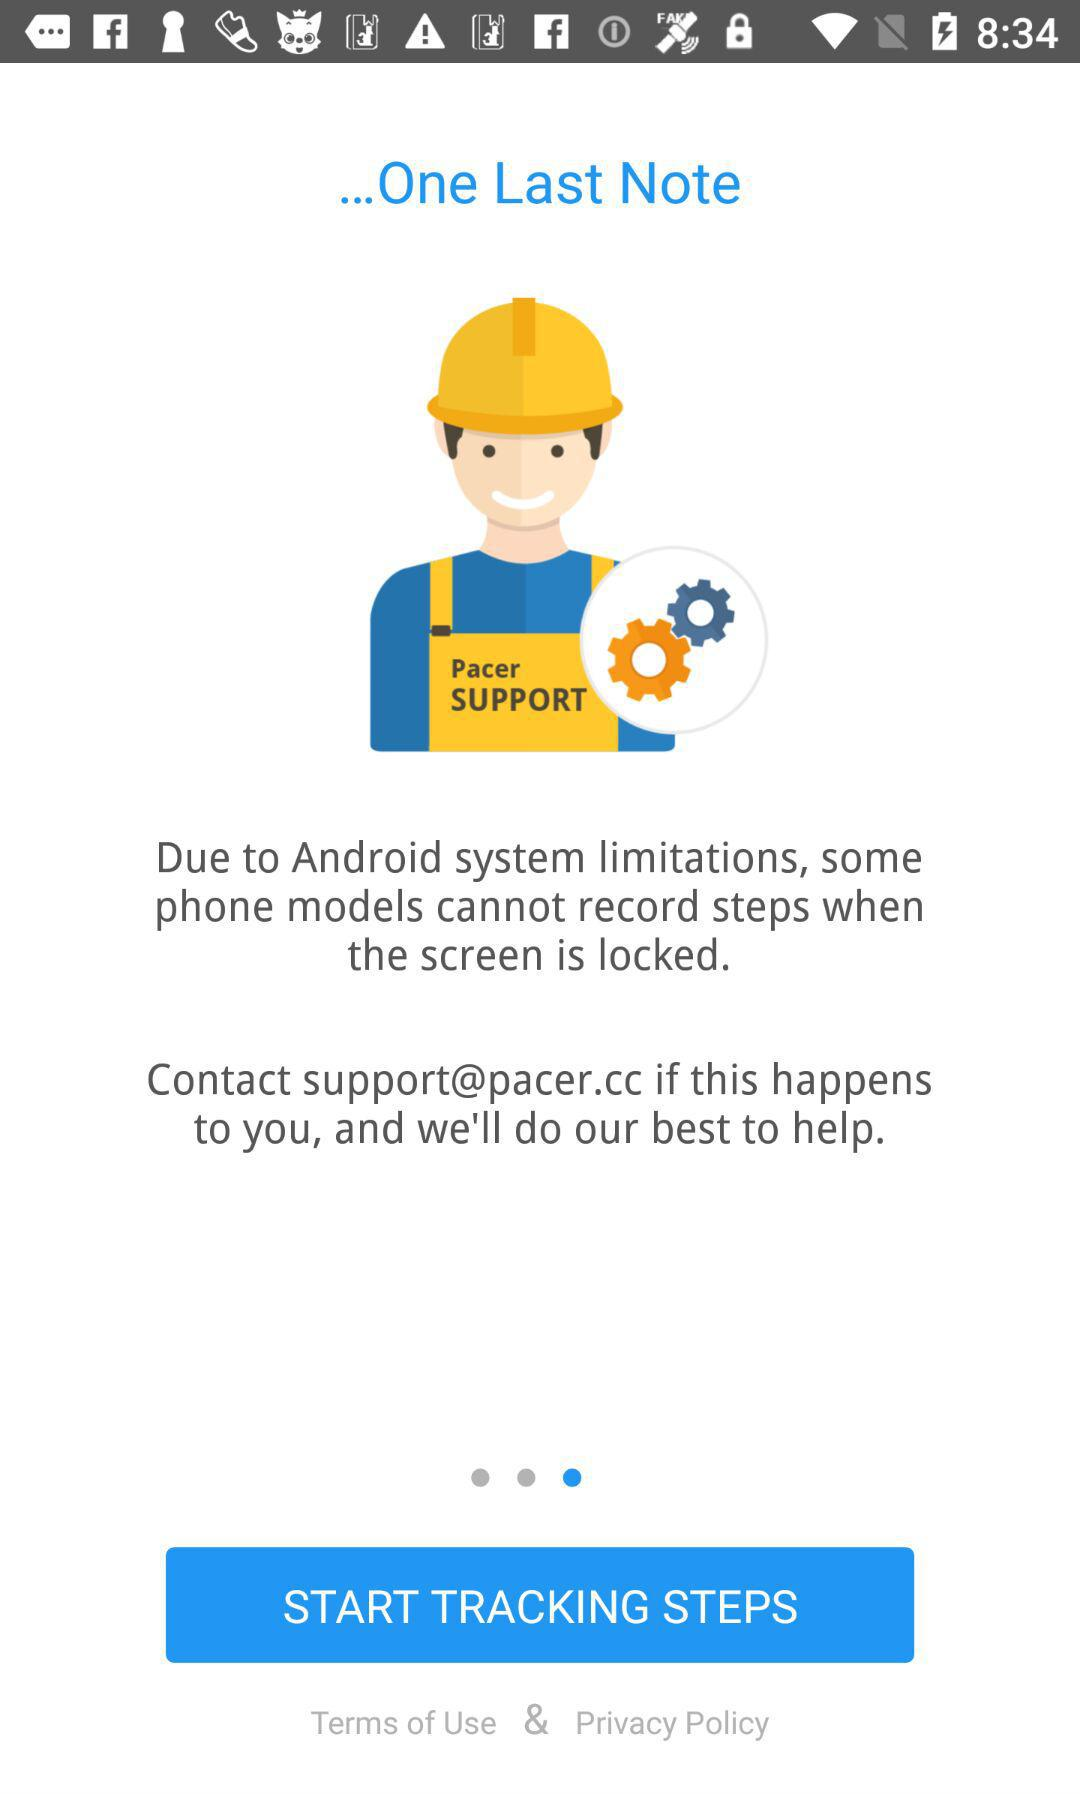Image: (370, 297, 770, 752)
PageIndicator: (469, 1466, 585, 1492)
Text: (156, 838, 922, 975), (147, 1060, 933, 1155), (338, 158, 740, 206), (309, 1700, 770, 1741)
TextButton: (167, 1545, 915, 1665)
UpperTaskBar: (1, 1, 1080, 64)
